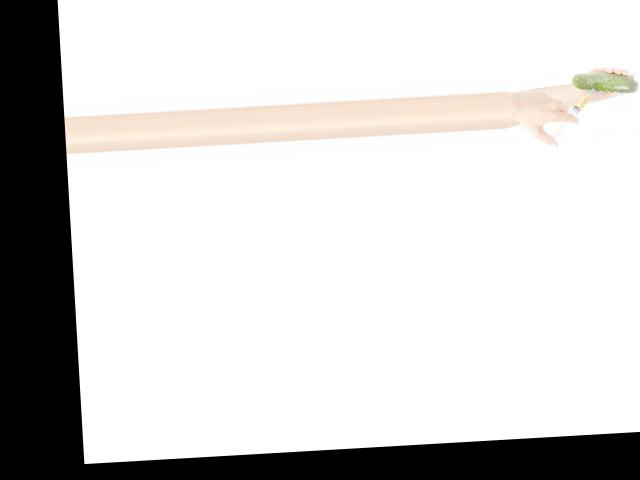cucumber: (572, 70, 640, 95)
